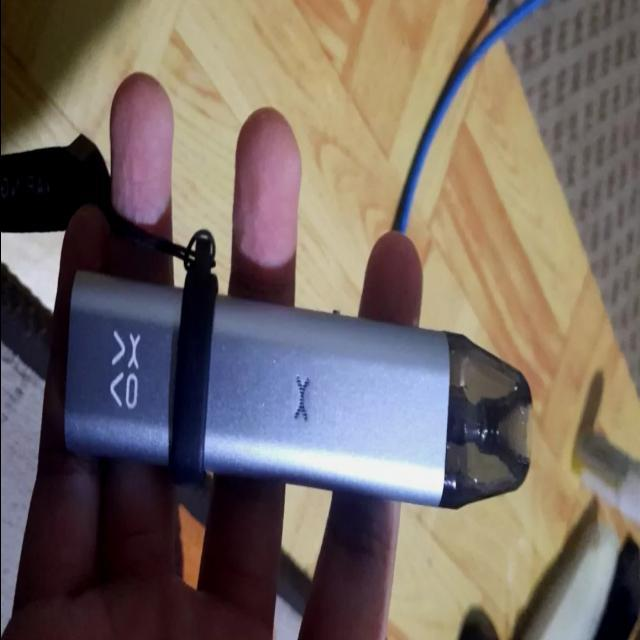Hazard: (63, 262, 533, 512)
